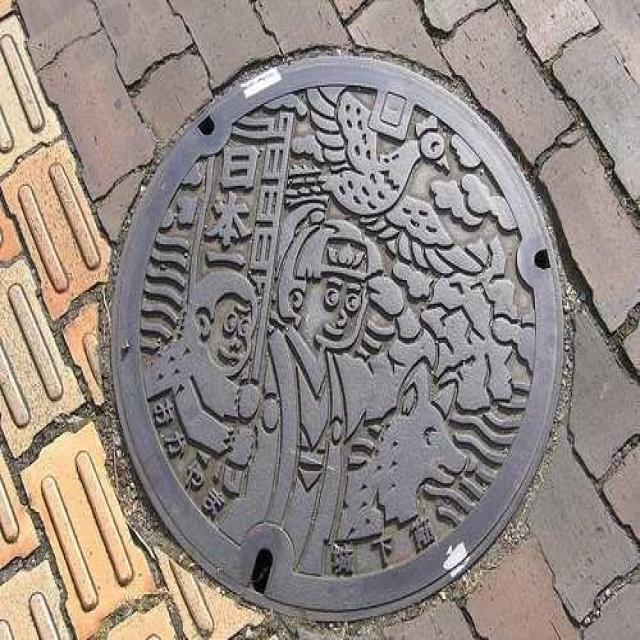manhole: (113, 53, 562, 617)
